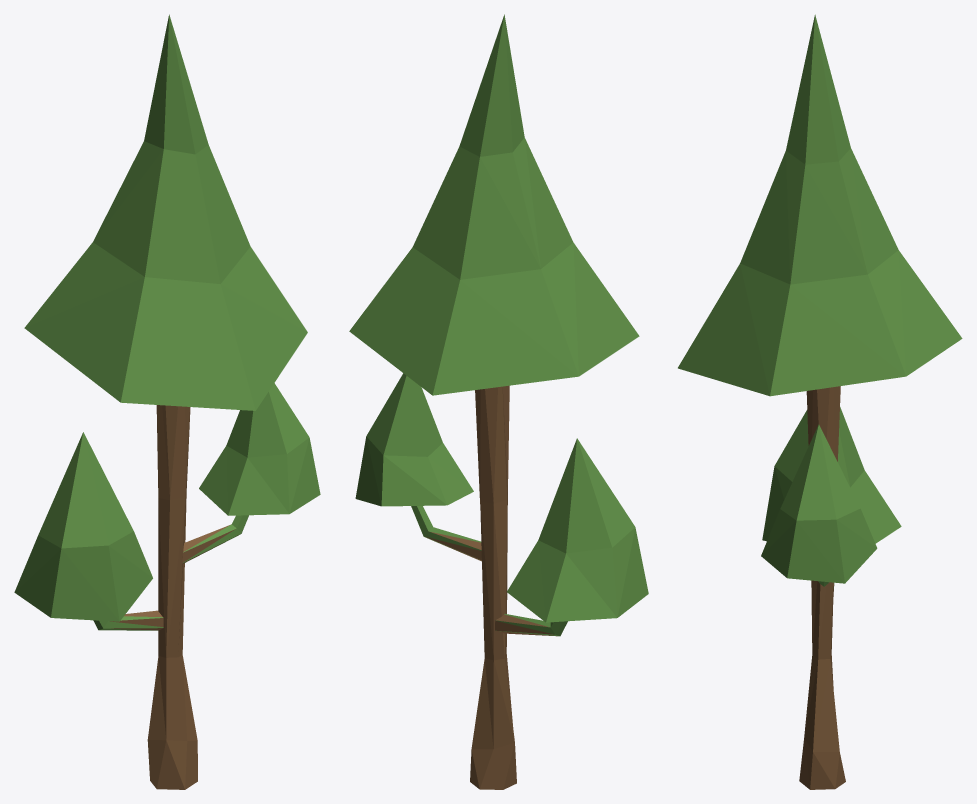
Rendered from tree3d-039.glb.
3 views of the same model, side by side, from view 1: azimuth 30°, elevation 25°; view 2: azimuth 150°, elevation 25°; view 3: azimuth 270°, elevation 25° (orthographic).
Parts seen in each view (by area): view 1: tree3d-039; view 2: tree3d-039; view 3: tree3d-039.
Part boxes in pixels (x1,y1,x2,y2): tree3d-039: (14,14,320,789); tree3d-039: (349,14,648,789); tree3d-039: (678,14,962,789).
Bounding box in the file's own units: 0.3681 × 1 × 0.3385.
